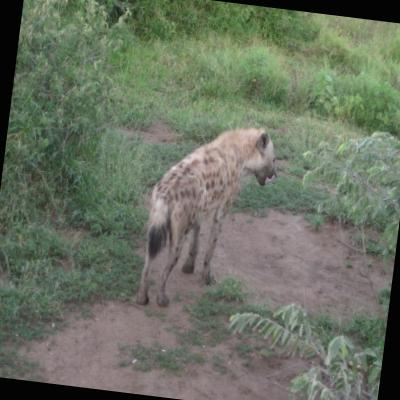hyenas: (113, 77, 342, 382)
